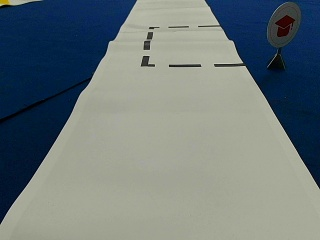school: (266, 2, 300, 46)
